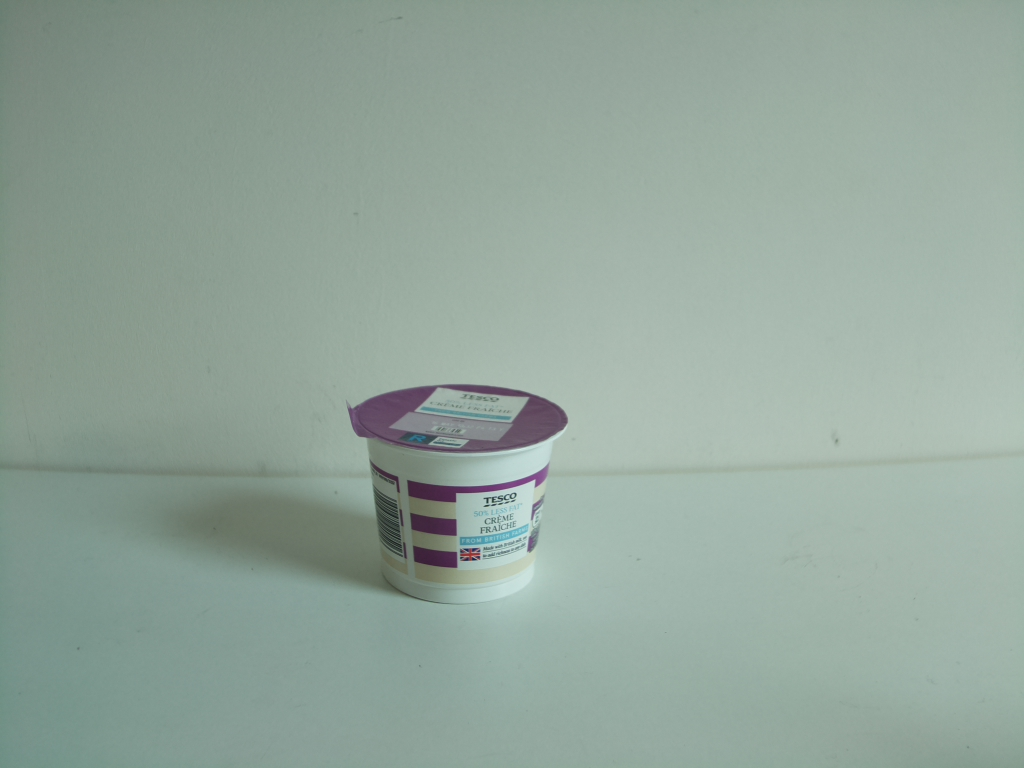cream: (340, 382, 575, 608)
